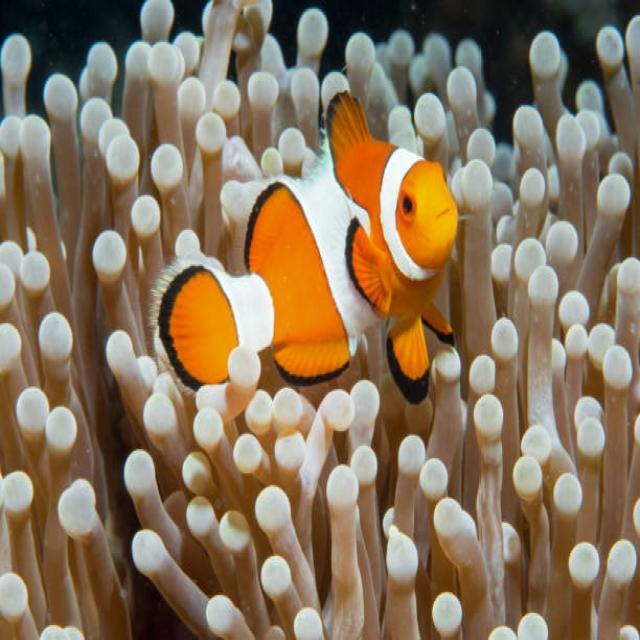ClownFish: (162, 90, 458, 407)
